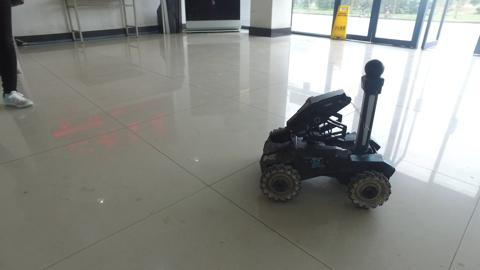chariot: (257, 57, 396, 210)
